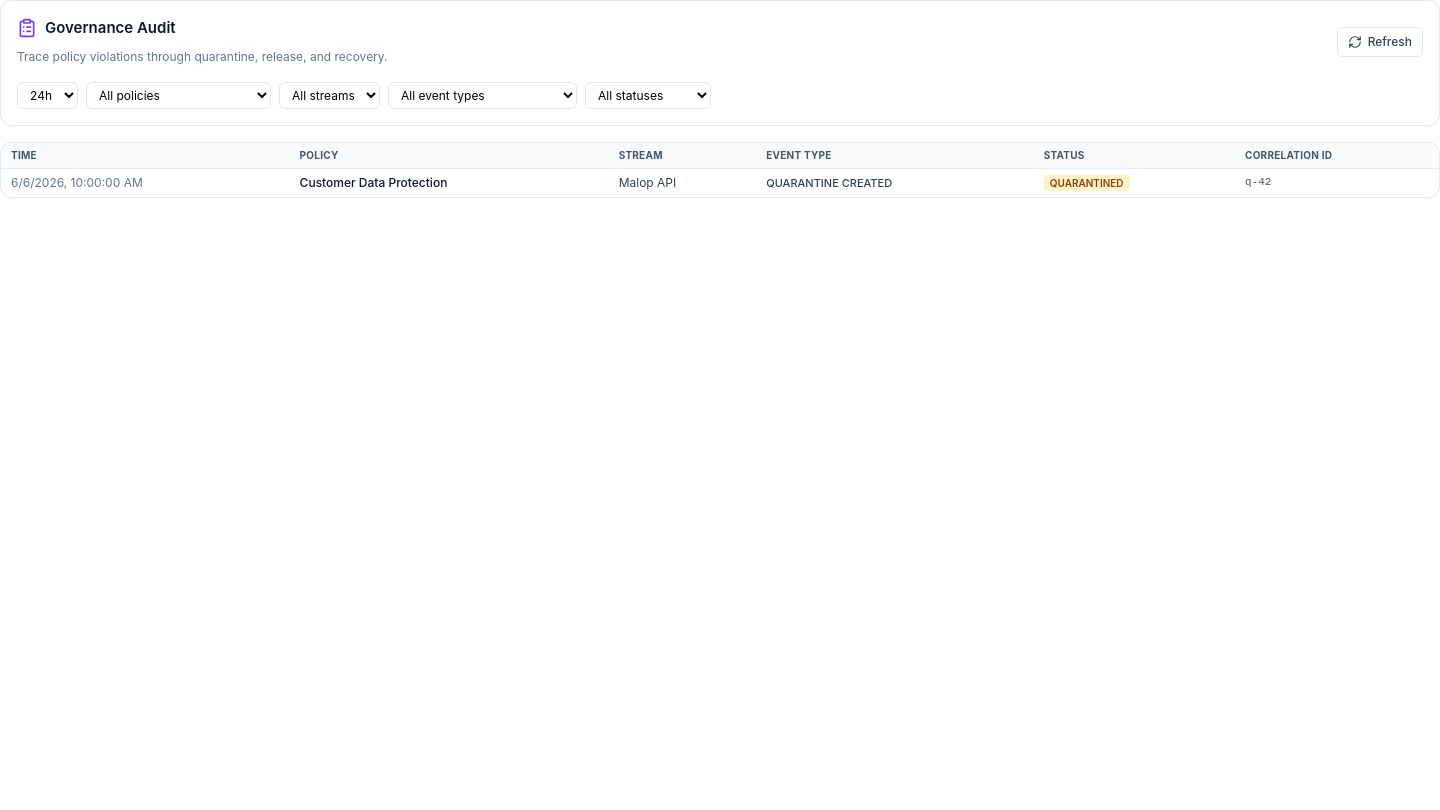
Test: AuditTrailPage › opens timeline drawer on row click
Click the row with test id "audit-row-q-42-QUARANTINE_CREATED". click: (77, 183)
box: [1,168,1439,197]
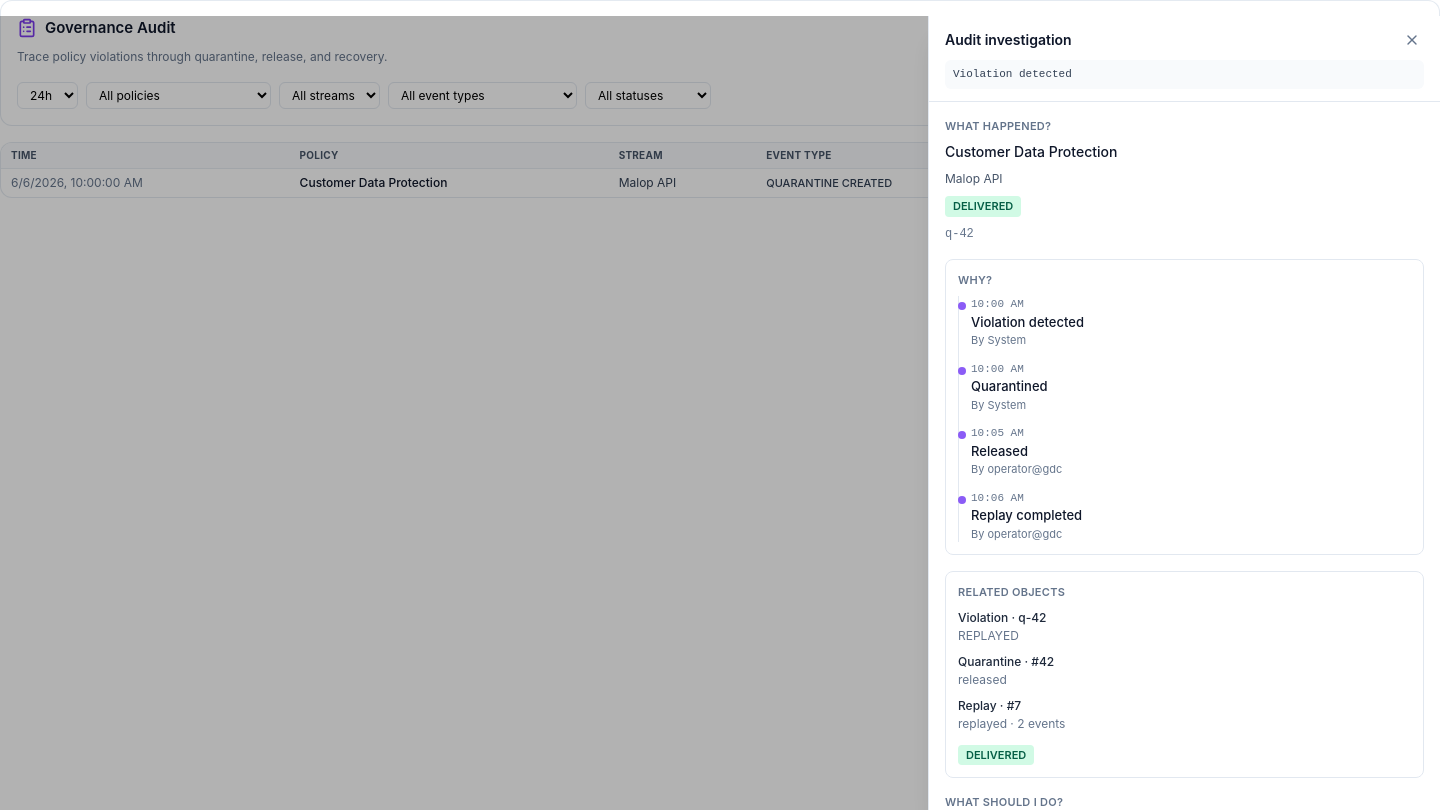
Now the element with test id "audit-detail-drawer" is shown, box [928,16,1439,809]
Now the element with test id "audit-section-what-happened" is shown, box [945,118,1117,240]
Now the element with test id "audit-section-why" is shown, box [945,258,1424,555]
